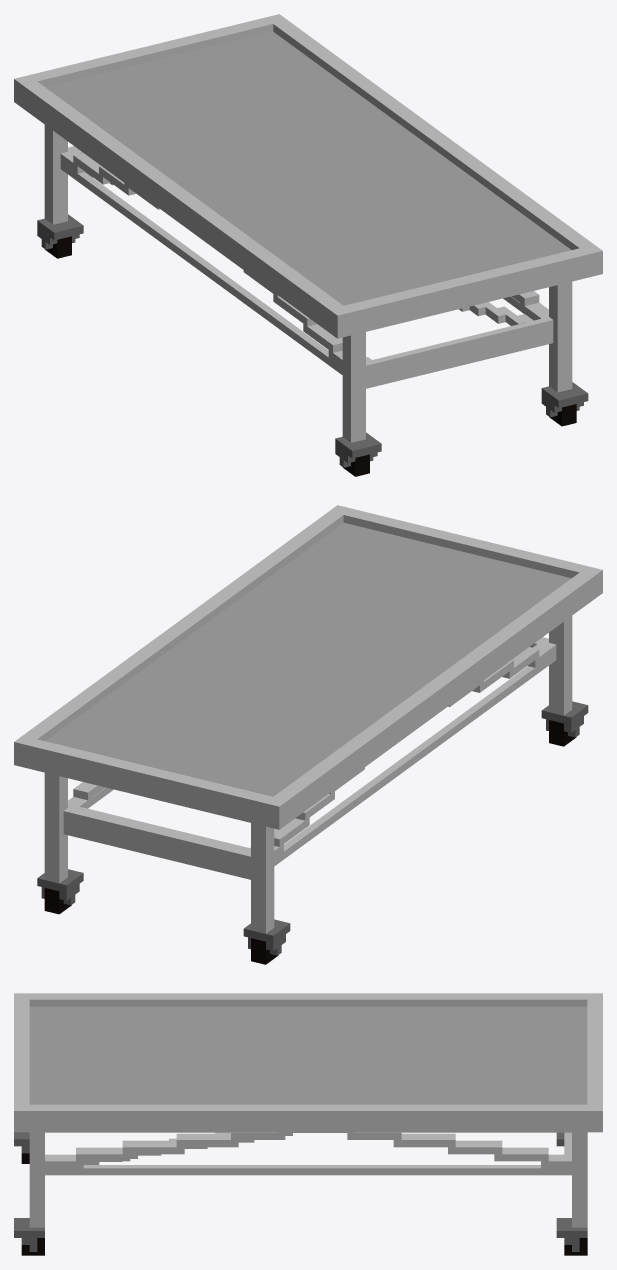
The model's file is Autopsy_room_bed3-1.fbx.
The picture shows the model from 3 angles, top to bottom: view 1: azimuth 30°, elevation 25°; view 2: azimuth 150°, elevation 25°; view 3: azimuth 270°, elevation 25°; orthographic projection. The views are drawn at different scales.
Visible parts, largest first — view 1: Autopsy room bed3-1; view 2: Autopsy room bed3-1; view 3: Autopsy room bed3-1.
Part boxes in pixels (x1=…): Autopsy room bed3-1: x1=14, y1=14, x2=602, y2=476; Autopsy room bed3-1: x1=14, y1=505, x2=602, y2=964; Autopsy room bed3-1: x1=14, y1=993, x2=602, y2=1255.
Size of the model in its own units: 360 by 220 by 760.
